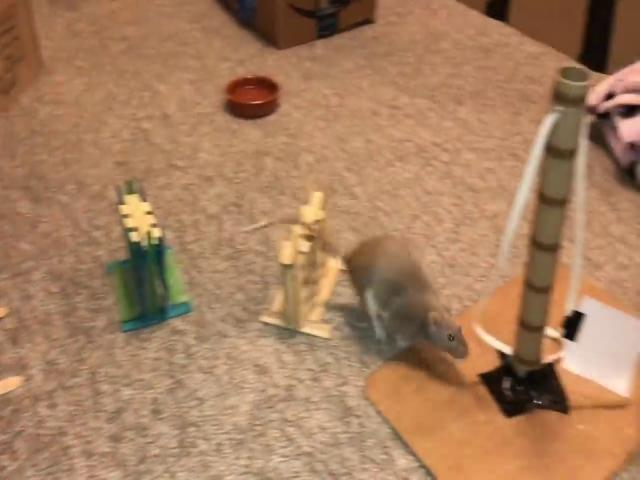Tikus: (343, 228, 470, 364)
